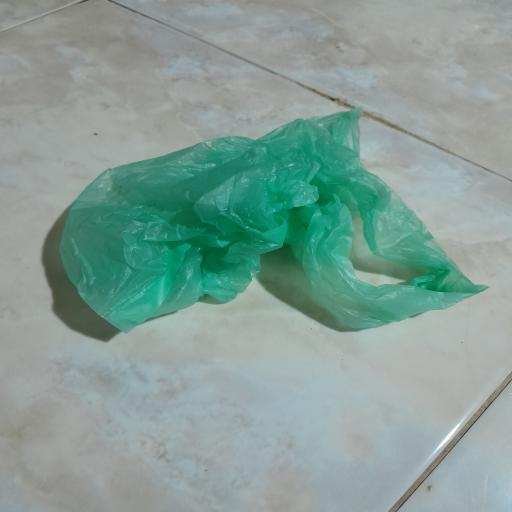waste: (45, 104, 493, 348)
